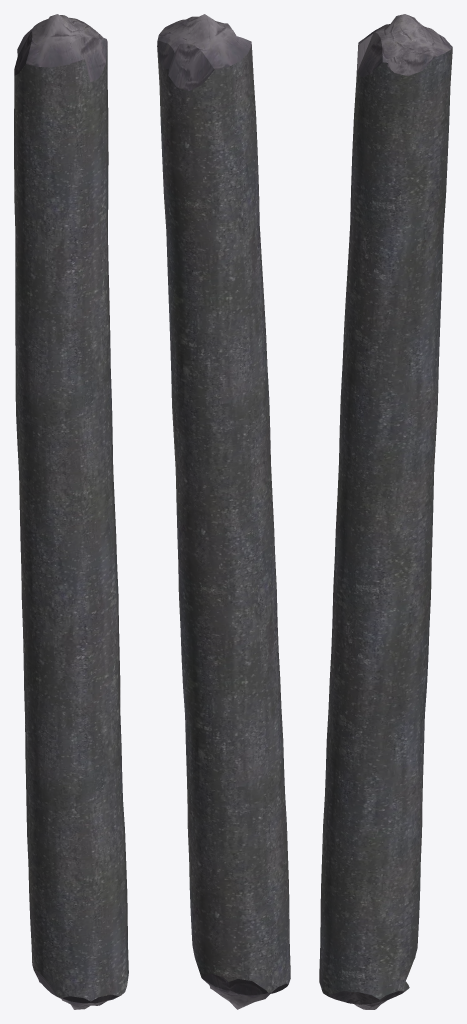
3 views of the same model, side by side, from view 1: azimuth 90°, elevation 25°; view 2: azimuth 150°, elevation 25°; view 3: azimuth 330°, elevation 25° (orthographic).
Visible parts, largest first — view 1: SM_FH_Ash_Tree_02_half_mid_LOD0; view 2: SM_FH_Ash_Tree_02_half_mid_LOD0; view 3: SM_FH_Ash_Tree_02_half_mid_LOD0.
Boxes of the visible parts, left/top/right/bottom form: SM_FH_Ash_Tree_02_half_mid_LOD0: left=14, top=14, right=128, bottom=1009; SM_FH_Ash_Tree_02_half_mid_LOD0: left=157, top=14, right=290, bottom=1009; SM_FH_Ash_Tree_02_half_mid_LOD0: left=319, top=14, right=452, bottom=1009.
Size of the model in its own units: 0.5105 by 4.37 by 0.4618.
1 material, 1 textured.
